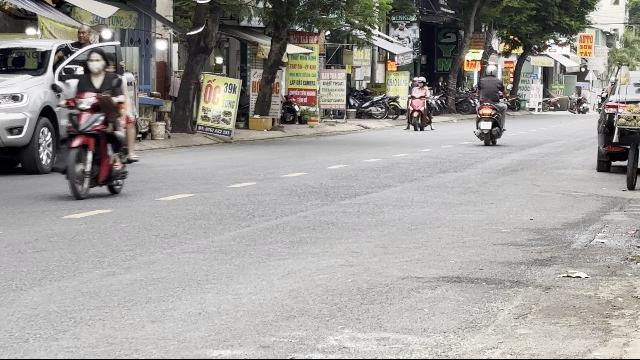motorcyclist: (54, 47, 138, 201)
nohelmet: (82, 50, 110, 78)
